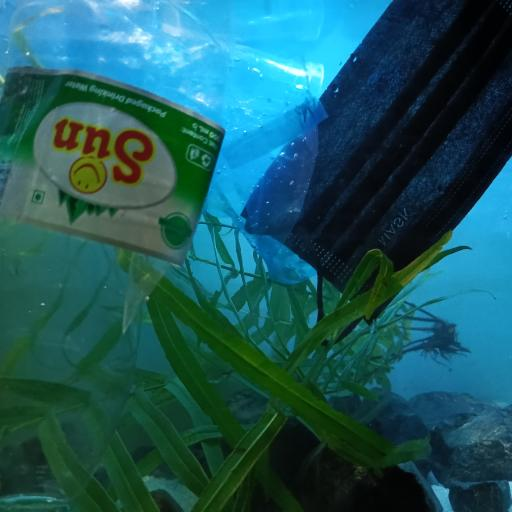mask: (241, 0, 512, 345)
plastic_bag: (0, 0, 336, 286)
plastic_bottle: (0, 0, 226, 512)
